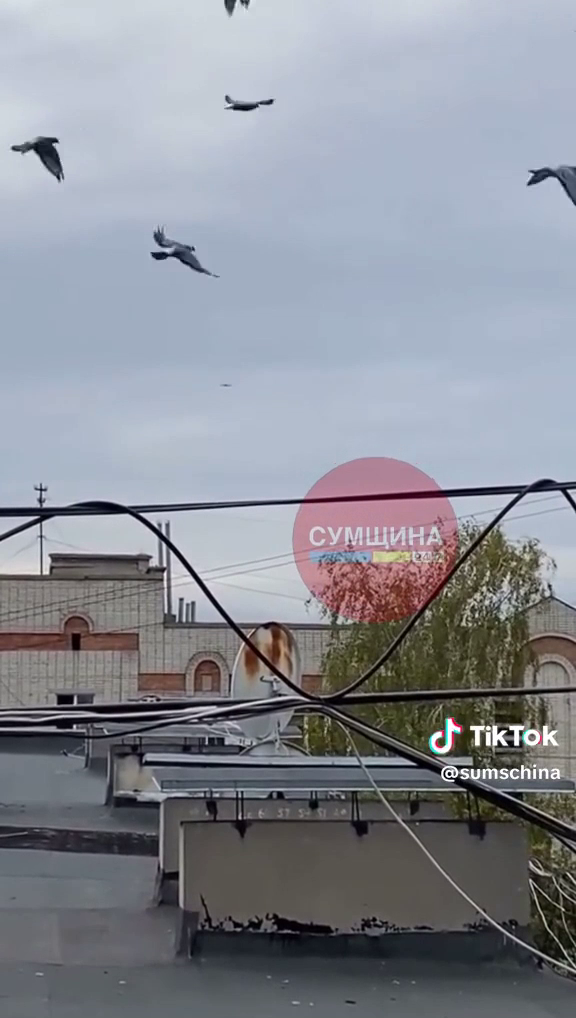not_drone: (137, 219, 231, 286), (6, 119, 76, 190), (516, 150, 576, 210), (218, 83, 285, 120)
